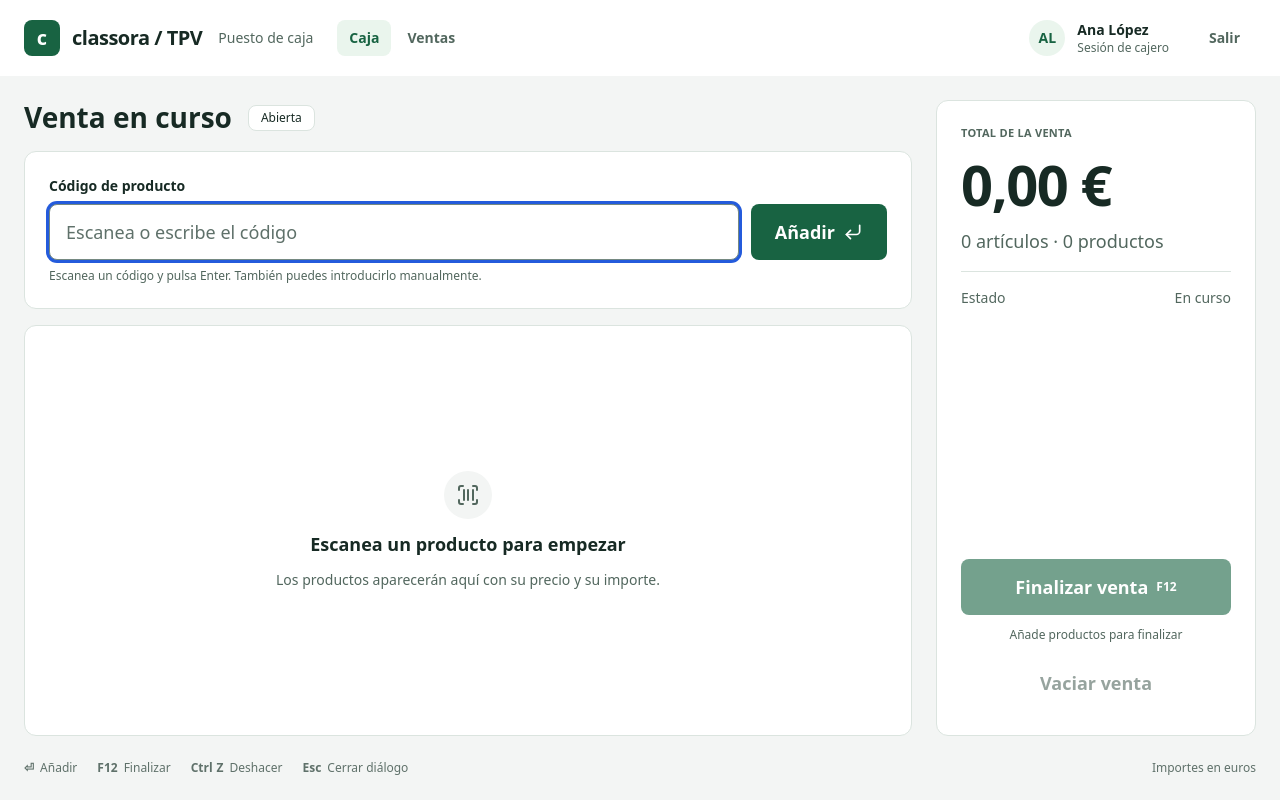
Checkout: Screen Integration › I-03 and I-12: should add a scanned product, clear the field and announce it
The width and height of the screenshot is (1280, 800).
Type "8412345000010" into the field labelled "Código de producto" at (394, 232), box [49,204,739,260]
Then press Enter
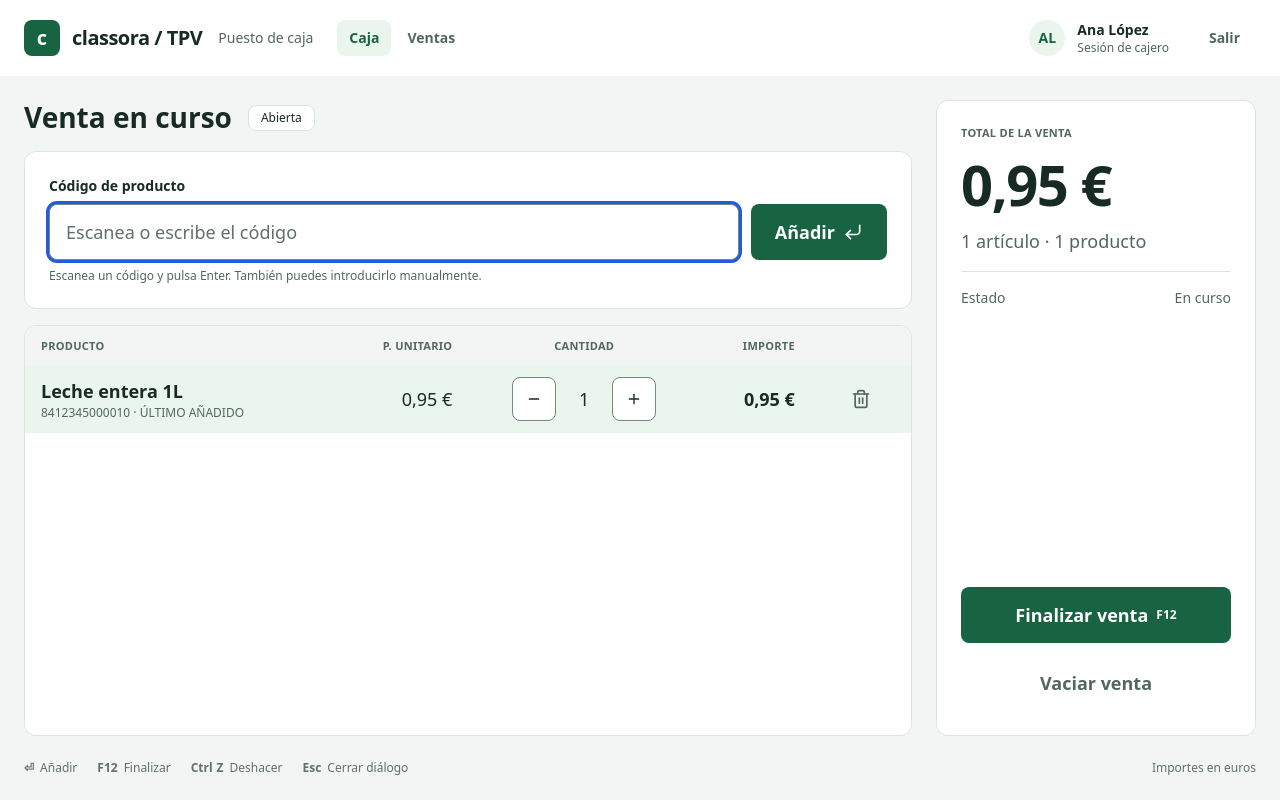
Expected: the text "· Último añadido" is shown, [130,404,244,421]
